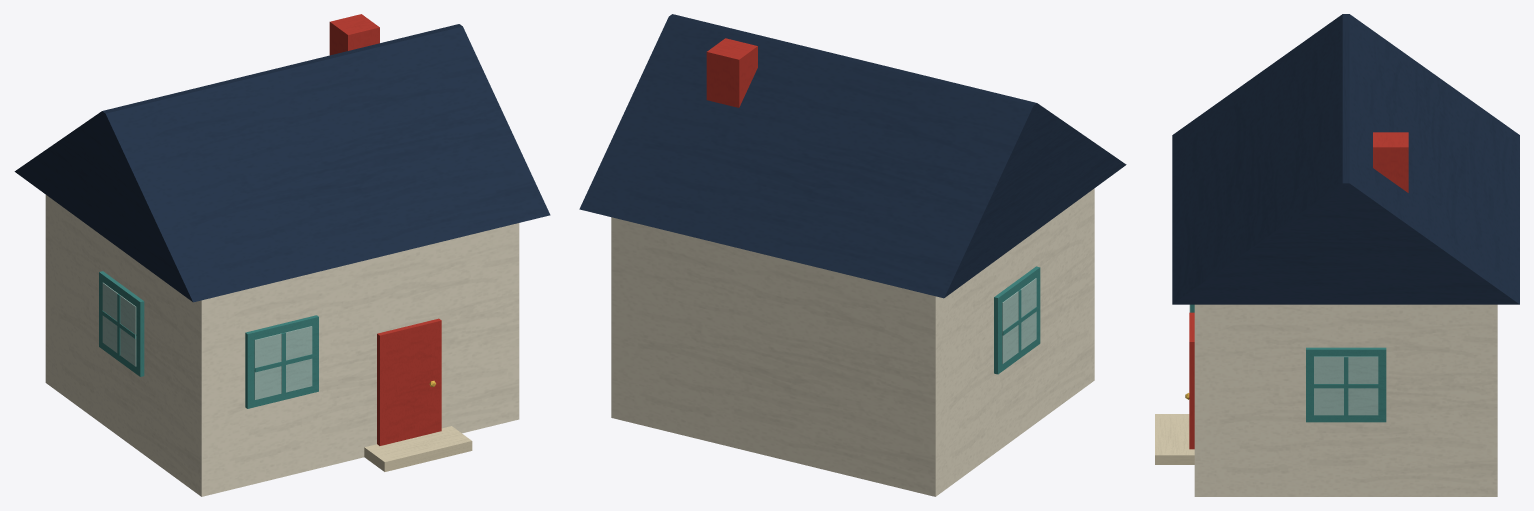
File: house.glb
The picture shows the model from 3 angles, left to right: view 1: azimuth 30°, elevation 25°; view 2: azimuth 150°, elevation 25°; view 3: azimuth 270°, elevation 25°; orthographic projection. The views are drawn at different scales.
Visible parts, largest first — view 1: house; view 2: house; view 3: house.
Part boxes in pixels (x1,y1,x2,y2): house: [14, 14, 550, 496]; house: [579, 14, 1126, 496]; house: [1155, 14, 1519, 496].
Size of the model in its own units: 4.5 by 4.05 by 4.1.
8 materials, 8 textured.
